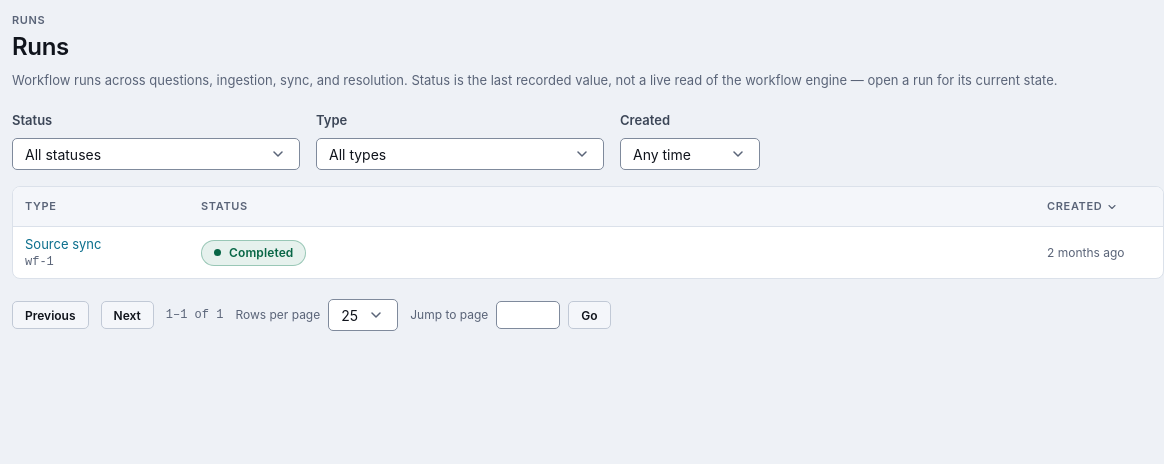
Test: RunsPage › keeps already-loaded rows on screen when a later refresh fails, rather than blanking them
Expected: the link "Source sync" is shown, [25,236,102,252]
Click the button with aria-label "Sort by Status" at (224, 207), box [201,199,248,214]
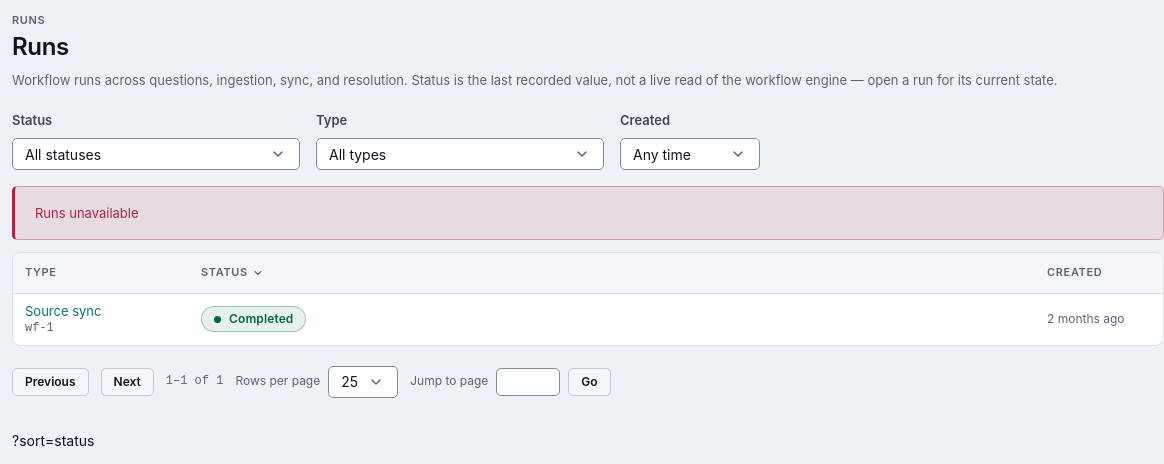
Expected: the link "Source sync" is shown, [25,303,102,319]
Result: the message reads "Runs unavailable" at [35,205,139,221]
